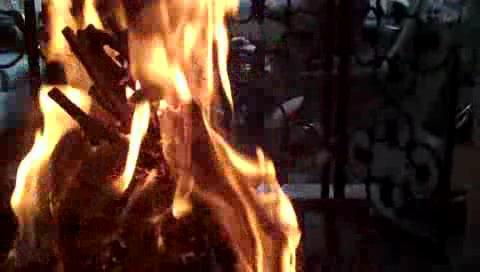fire: (35, 5, 257, 255)
